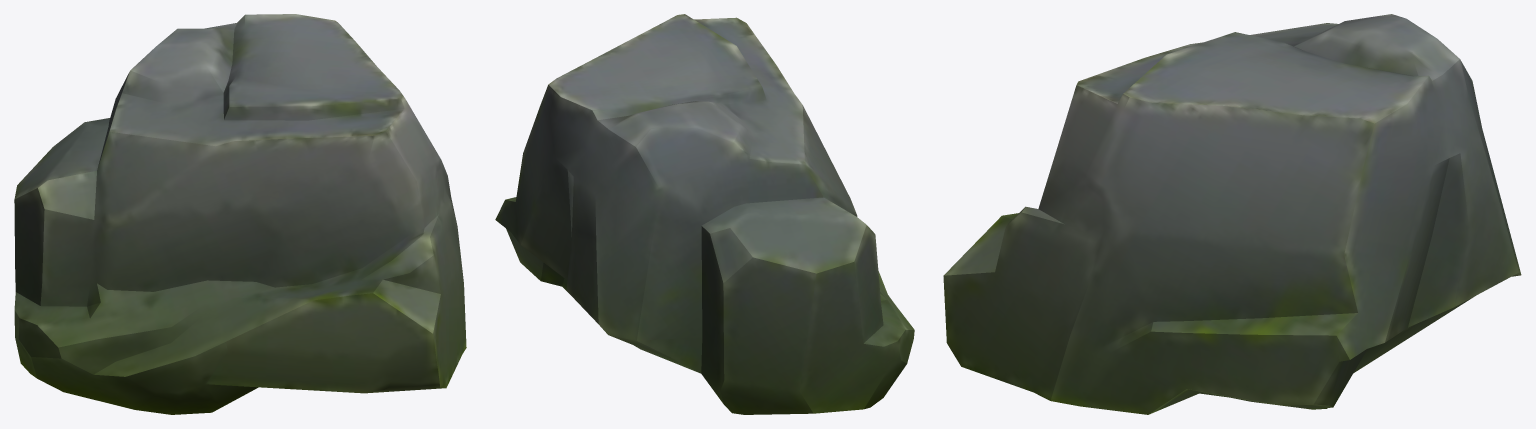
Rendered from Rock_Medium_3.gltf.
The picture shows the model from 3 angles, left to right: view 1: azimuth 30°, elevation 25°; view 2: azimuth 150°, elevation 25°; view 3: azimuth 270°, elevation 25°; orthographic projection. The views are drawn at different scales.
Parts seen in each view (by area): view 1: Rock_Medium_3; view 2: Rock_Medium_3; view 3: Rock_Medium_3.
Part boxes in pixels (x1=…): Rock_Medium_3: x1=14, y1=14, x2=466, y2=414; Rock_Medium_3: x1=495, y1=14, x2=914, y2=414; Rock_Medium_3: x1=943, y1=14, x2=1521, y2=414.
Bounding box in the file's own units: 3.42 × 2.32 × 3.48.
Materials: 1 (1 with a texture image).
